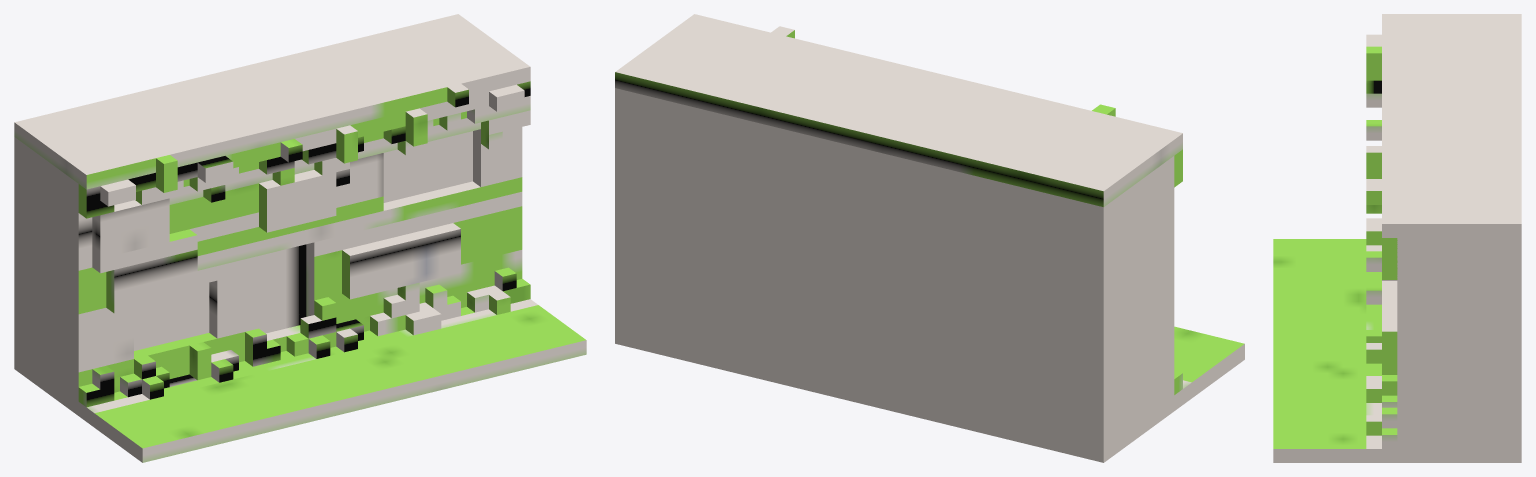
File: Straight4.fbx
The picture shows the model from 3 angles, left to right: view 1: azimuth 30°, elevation 25°; view 2: azimuth 150°, elevation 25°; view 3: azimuth 270°, elevation 25°; orthographic projection. The views are drawn at different scales.
Parts seen in each view (by area): view 1: Ground, Cliff; view 2: Cliff, Ground; view 3: Ground, Cliff.
Part boxes in pixels (x1,y1,x2,y2): Ground: (14, 14, 586, 462); Cliff: (14, 111, 522, 415); Cliff: (615, 88, 1174, 462); Ground: (615, 14, 1244, 410); Ground: (1273, 14, 1521, 462); Cliff: (1382, 238, 1521, 462).
Size of the model in its own units: 32 by 17 by 16.
